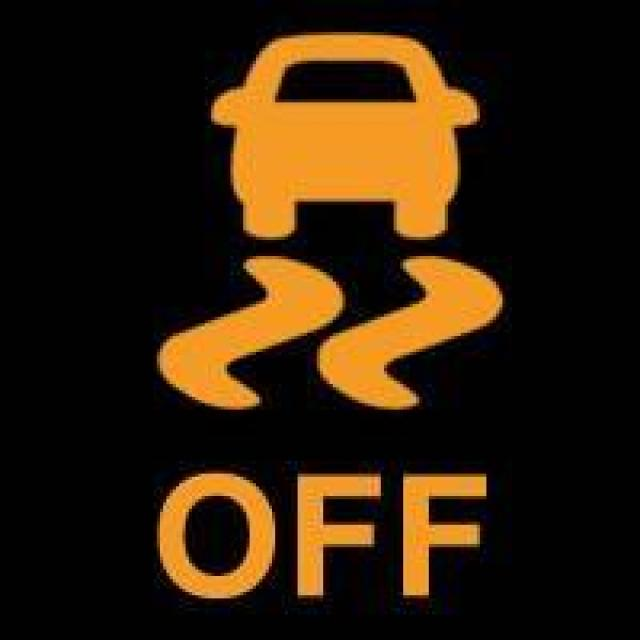kontrolka: (110, 20, 574, 617)
